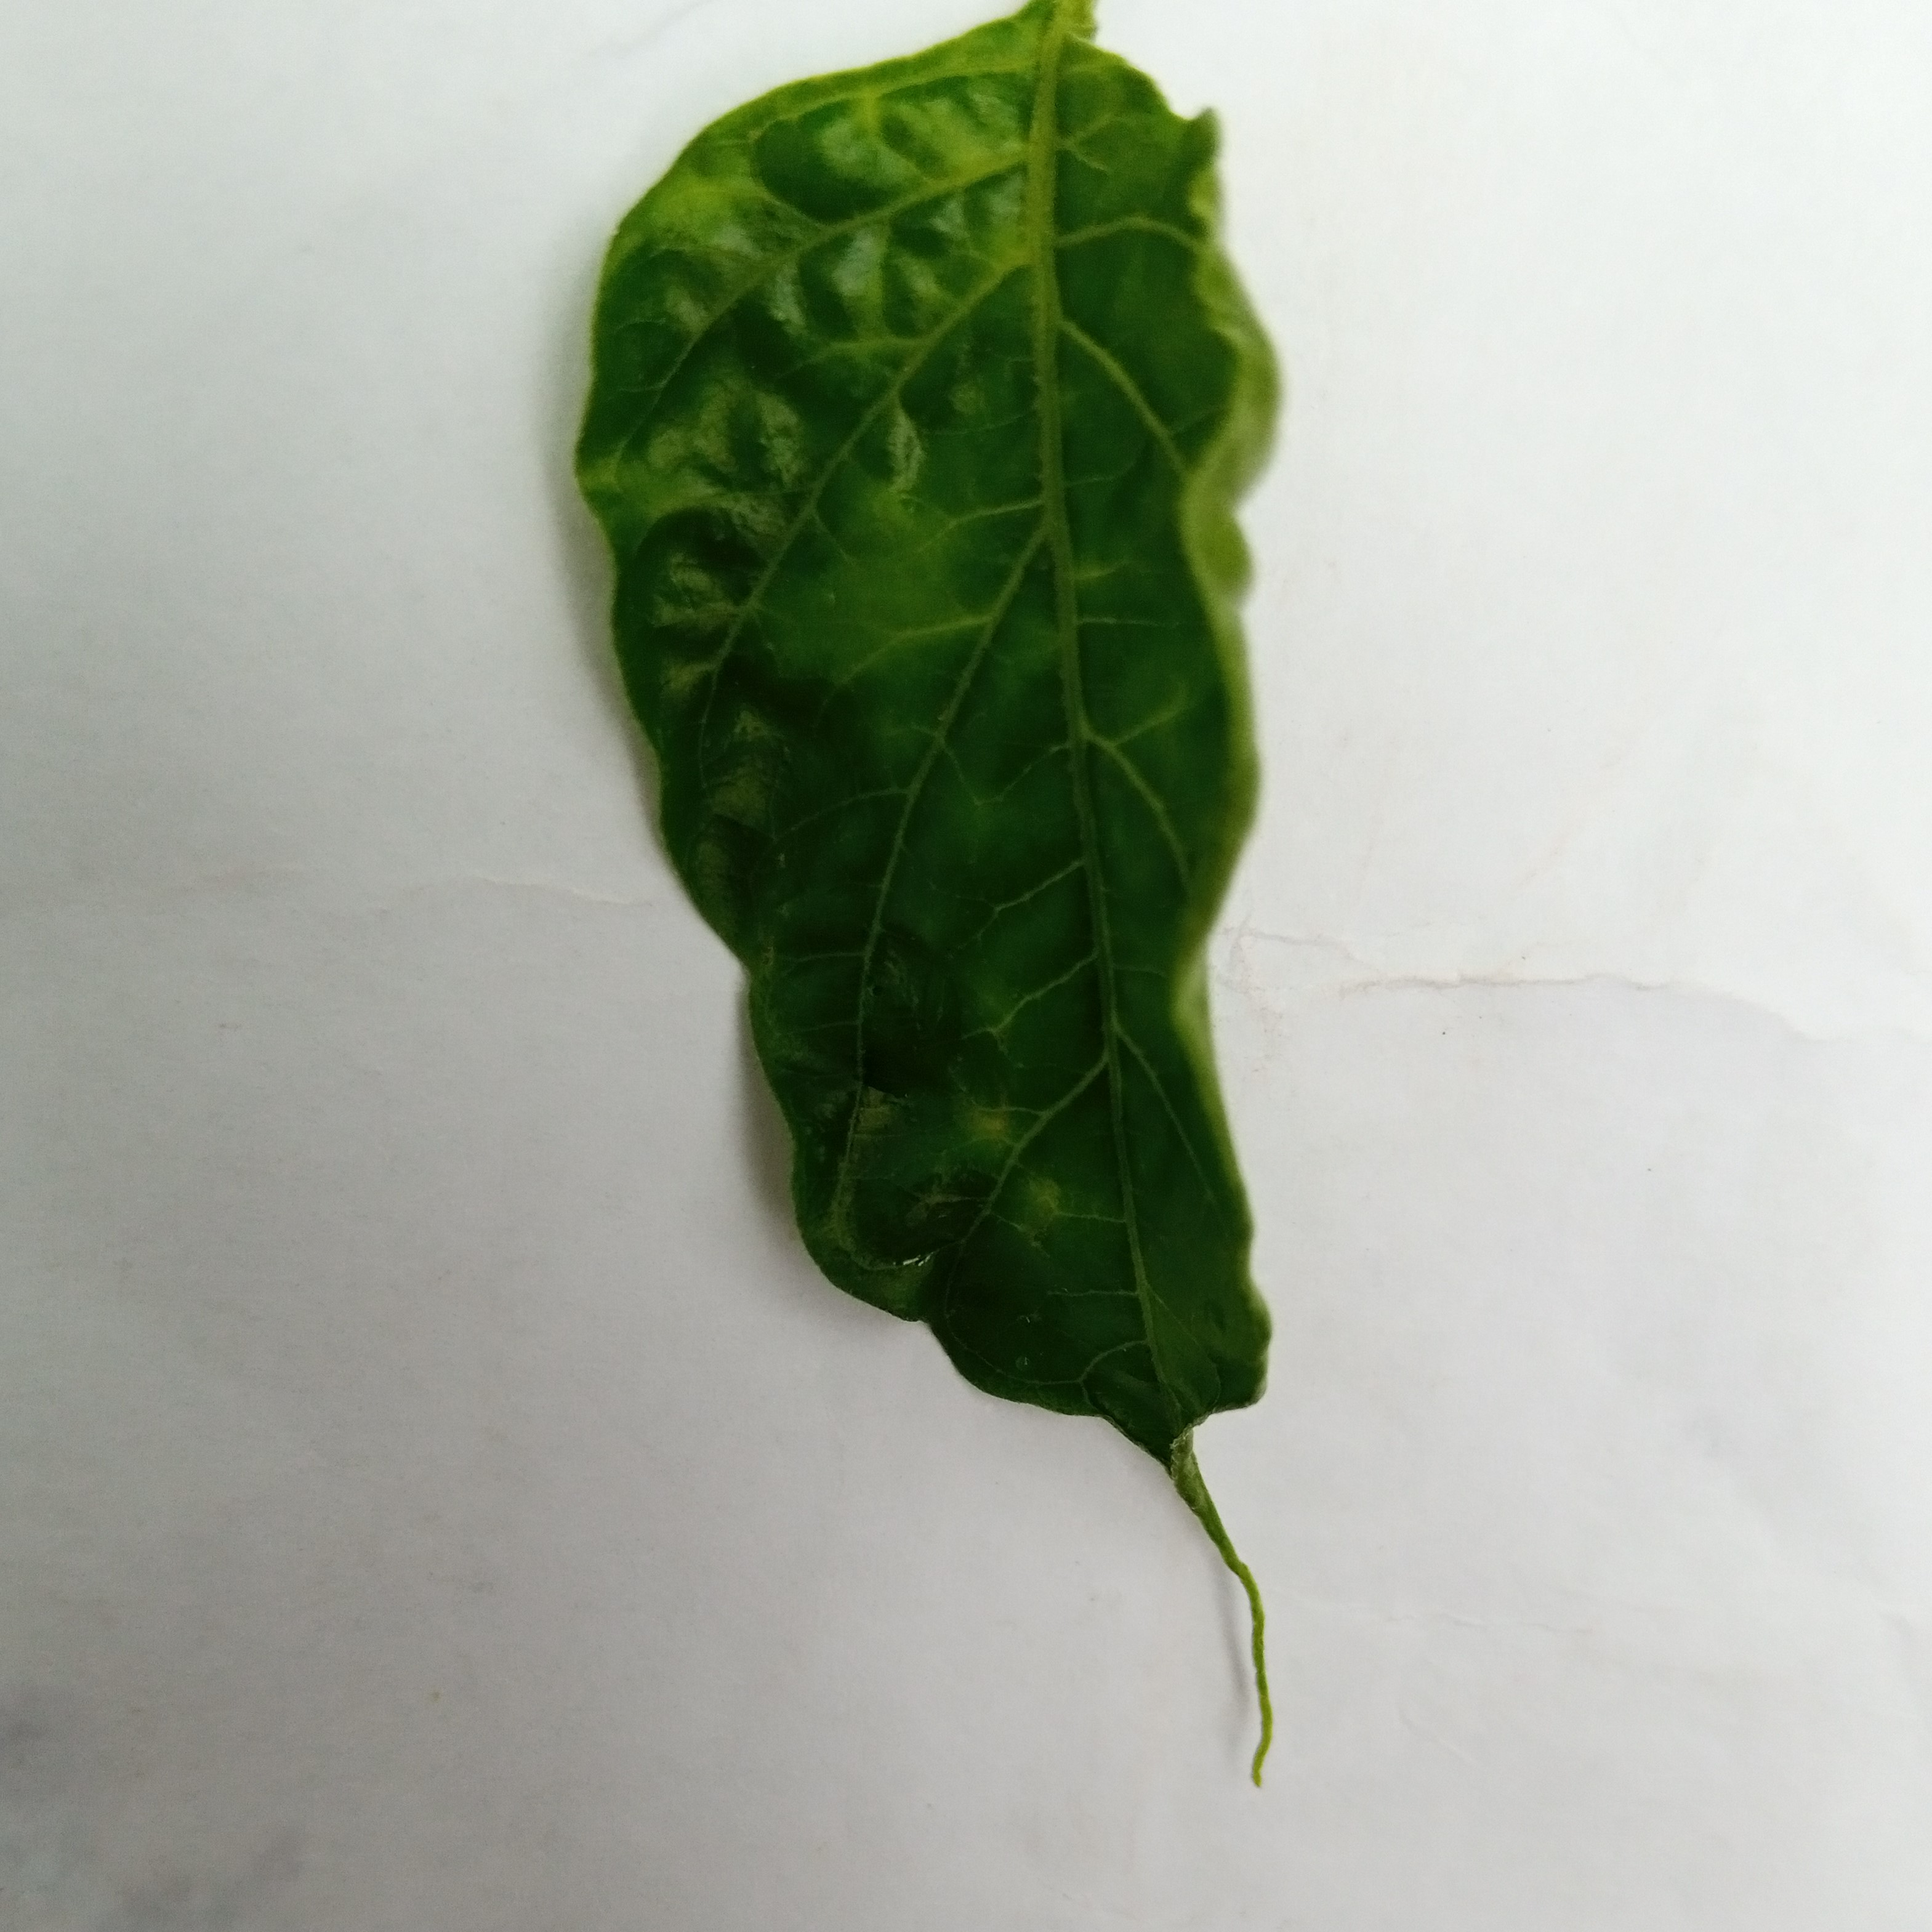Leaf: (400, 18, 1617, 1796)
